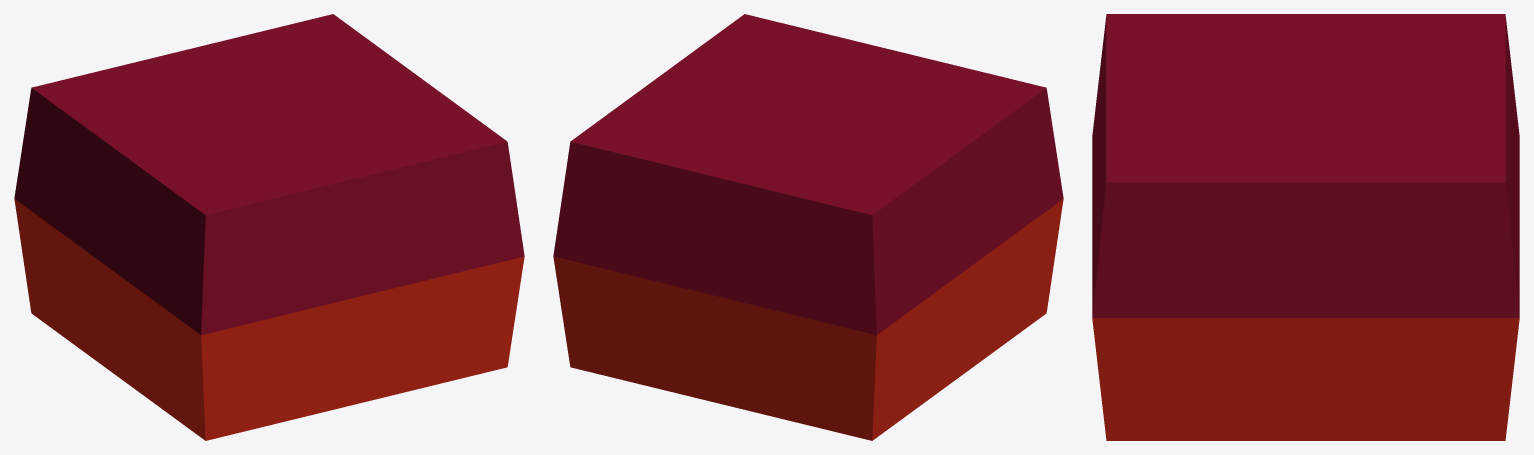
Rendered from enemy_swallower_a.gltf.
3 views of the same model, side by side, from view 1: azimuth 30°, elevation 25°; view 2: azimuth 150°, elevation 25°; view 3: azimuth 270°, elevation 25° (orthographic). The views are drawn at different scales.
Visible parts, largest first — view 1: enemy_swallower_a; view 2: enemy_swallower_a; view 3: enemy_swallower_a.
Boxes of the visible parts, left/top/right/bottom form: enemy_swallower_a: left=14, top=14, right=524, bottom=440; enemy_swallower_a: left=553, top=14, right=1063, bottom=440; enemy_swallower_a: left=1092, top=14, right=1519, bottom=440.
Bounding box in the file's own units: 6 × 4 × 6.
